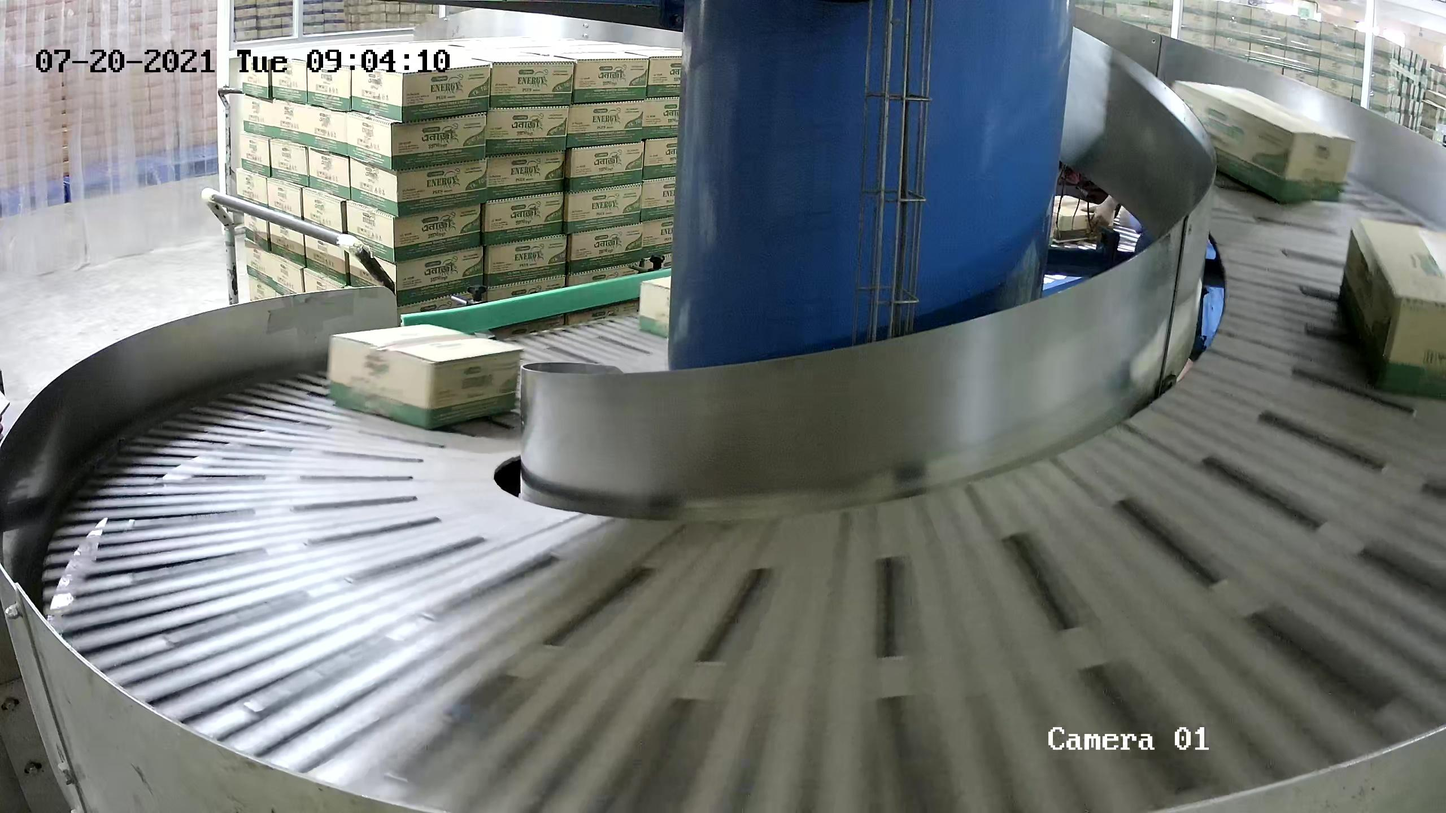Box: (1169, 79, 1358, 204), (327, 323, 524, 430), (1336, 215, 1446, 397), (638, 274, 671, 337)
